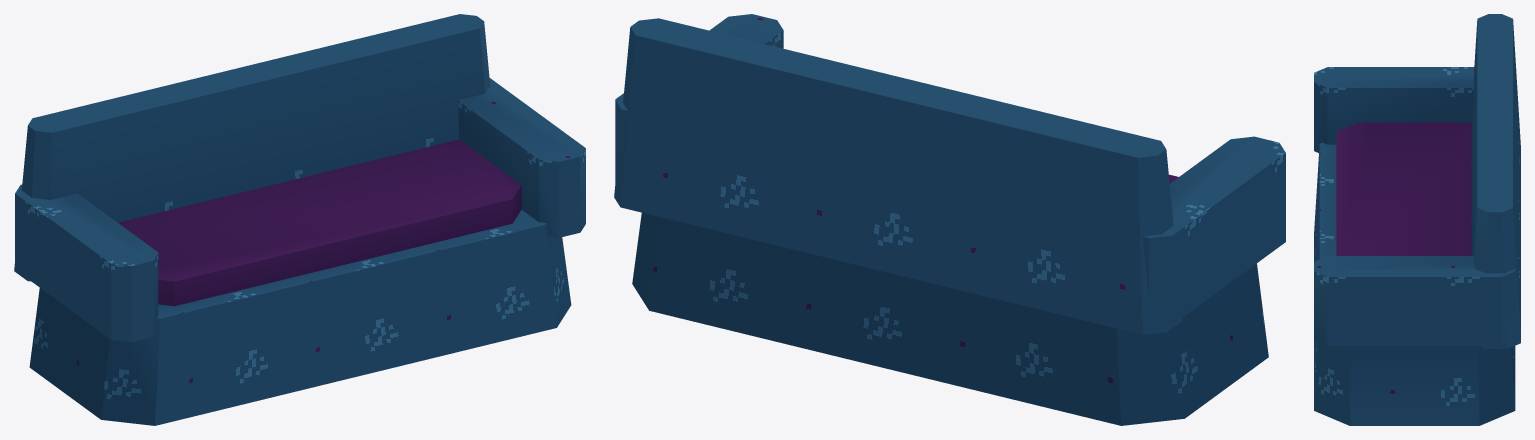
Rendered from cyroom.sofa.glb.
The picture shows the model from 3 angles, left to right: view 1: azimuth 30°, elevation 25°; view 2: azimuth 150°, elevation 25°; view 3: azimuth 270°, elevation 25°; orthographic projection. The views are drawn at different scales.
Visible parts, largest first — view 1: kit_body; view 2: kit_body; view 3: kit_body.
Boxes of the visible parts, left/top/right/bottom form: kit_body: left=14, top=14, right=585, bottom=425; kit_body: left=614, top=14, right=1285, bottom=425; kit_body: left=1314, top=14, right=1520, bottom=425.
Bounding box in the file's own units: 2.22 × 1.03 × 0.925.
2 materials, 2 textured.
